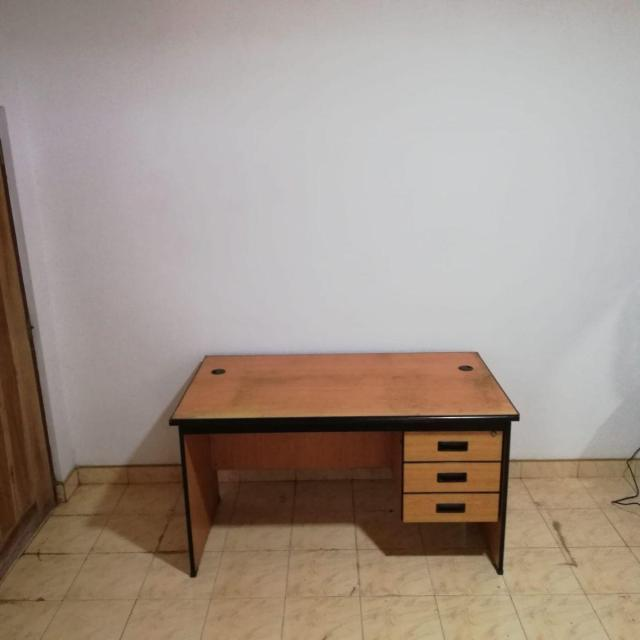table: (144, 342, 546, 589)
